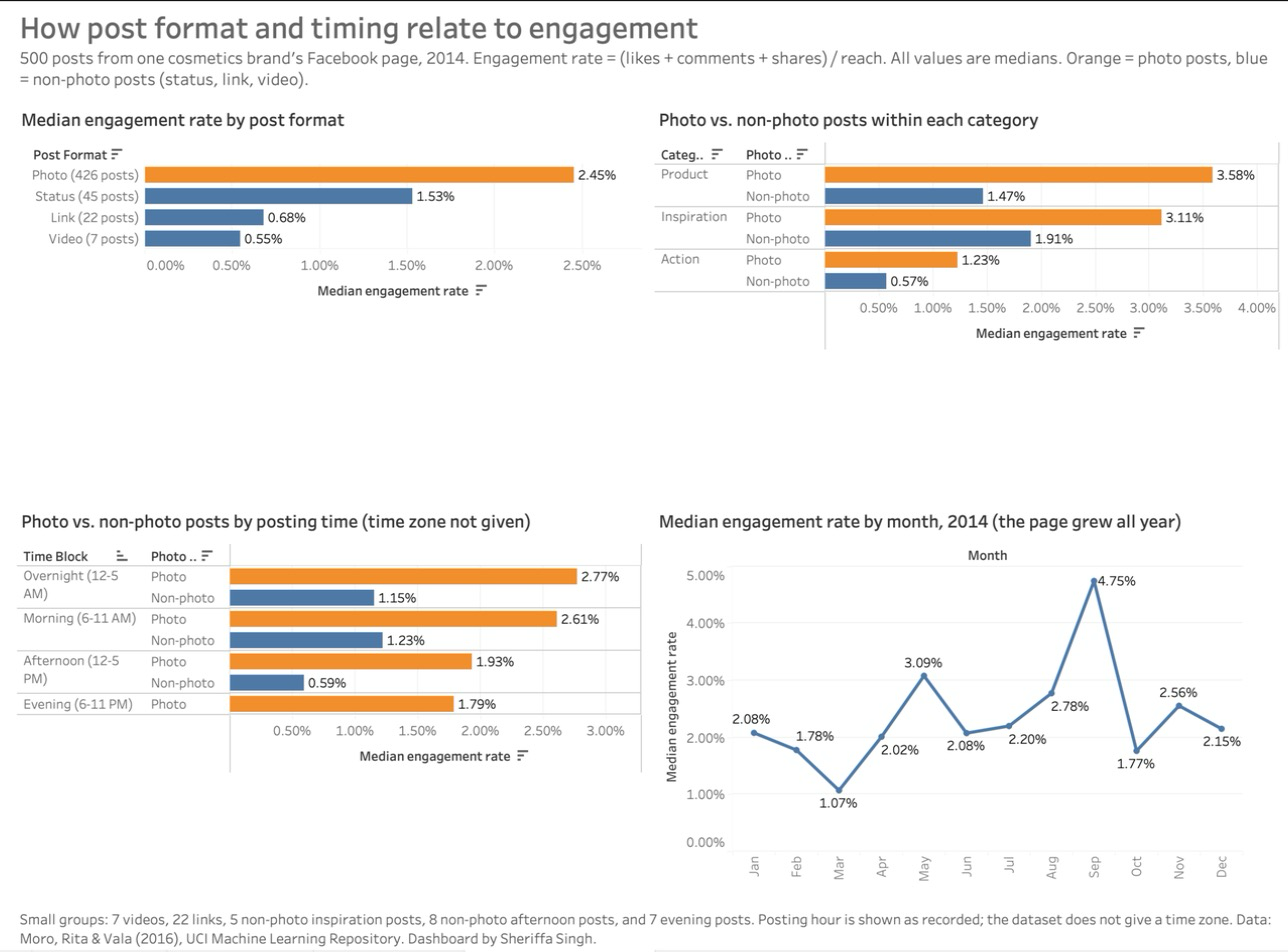

The page's visual inventory and layout, read from the dashboard file:
{"tool":"tableau","page":{"name":"Social Media Engagement","canvas":[1200,900],"ordinal":0},"visuals":[{"type":"text","box":[0,0,1200,90]},{"type":"worksheet","title":"Engagement by Format","mark":"Bar","rows":["format_label"],"cols":["engagement"],"box":[0,90,600,378]},{"type":"worksheet","title":"Format by Category","mark":"Bar","rows":["category","format_group"],"cols":["engagement"],"box":[600,90,600,378]},{"type":"worksheet","title":"Format by Time Block","mark":"Bar","rows":["time_block","format_group"],"cols":["engagement"],"box":[0,468,600,378]},{"type":"worksheet","title":"Engagement by Month","mark":"Line","rows":["engagement"],"cols":["month_name"],"box":[600,468,600,378]},{"type":"text","box":[0,846,1200,54]}]}

Visuals, with their boxes in screenshot pixels (x1, y1, x2, y2), scaled from the page's 1200x900 canvas onto the 1288x952 screenshot:
text: 0, 0, 1287, 95
"Engagement by Format" worksheet (Bar marks): 0, 95, 644, 495
"Format by Category" worksheet (Bar marks): 644, 95, 1287, 495
"Format by Time Block" worksheet (Bar marks): 0, 495, 644, 895
"Engagement by Month" worksheet (Line marks): 644, 495, 1287, 895
text: 0, 895, 1287, 951
